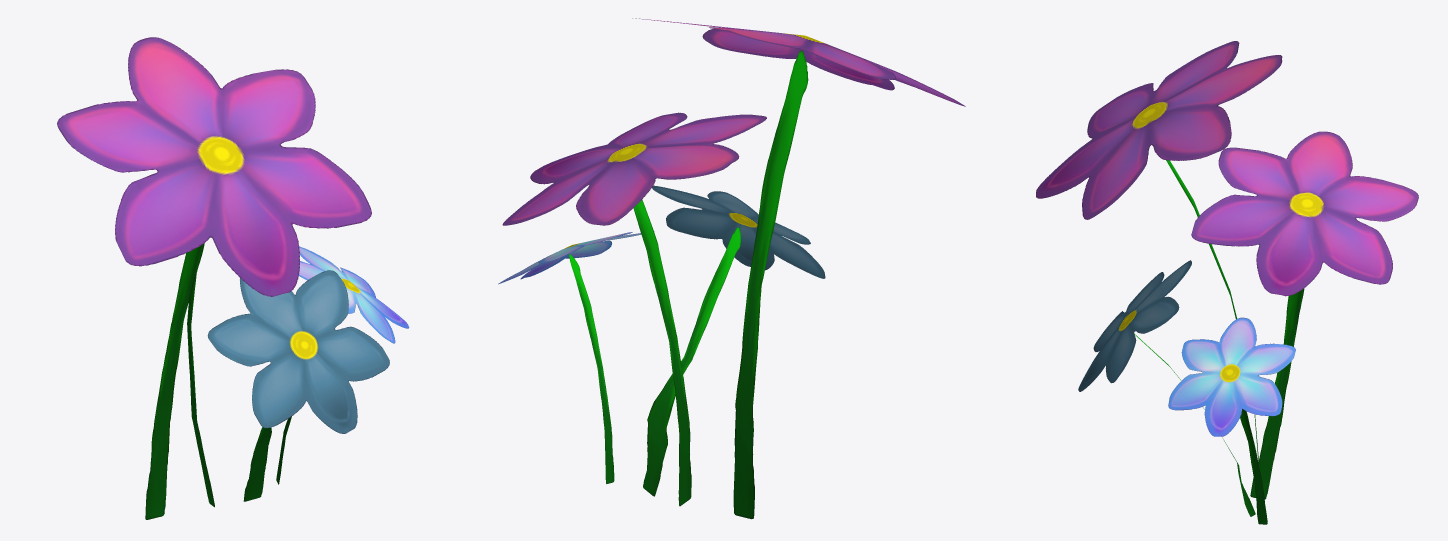
File: 26_Flores_Varias.fbx
3 views of the same model, side by side, from view 1: azimuth 30°, elevation 25°; view 2: azimuth 150°, elevation 25°; view 3: azimuth 270°, elevation 25° (orthographic). The views are drawn at different scales.
Parts seen in each view (by area): view 1: 26_Flores_Varias; view 2: 26_Flores_Varias; view 3: 26_Flores_Varias.
Part boxes in pixels (bbox=[...]): 26_Flores_Varias: bbox=[57, 37, 409, 519]; 26_Flores_Varias: bbox=[498, 18, 965, 519]; 26_Flores_Varias: bbox=[1036, 41, 1418, 524].
Size of the model in its own units: 31.65 by 39.22 by 33.54.
